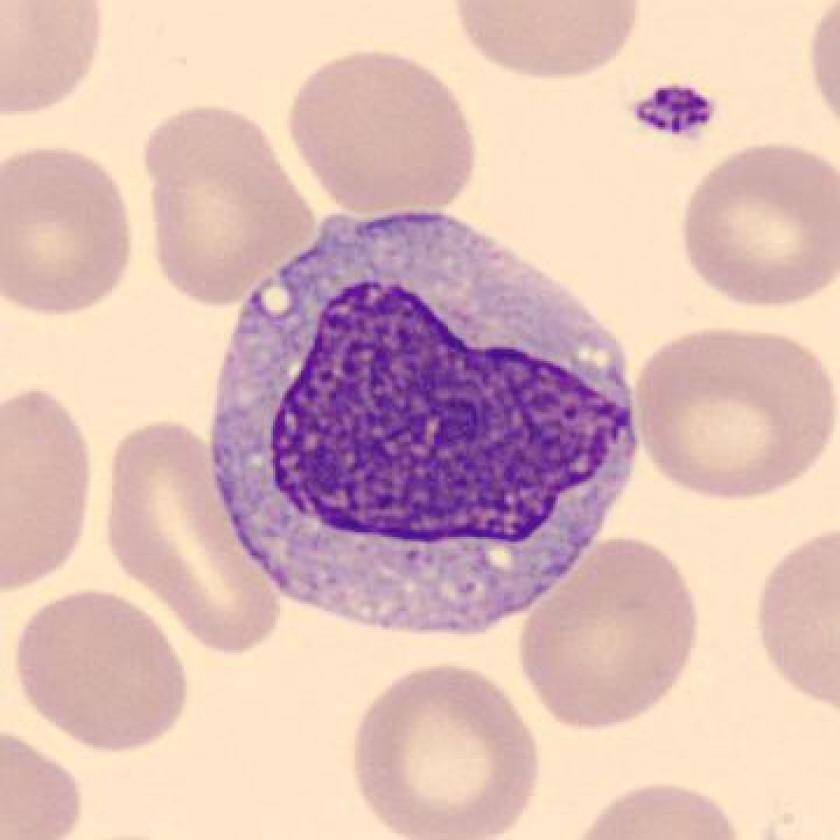monocyte: (197, 193, 654, 649)
